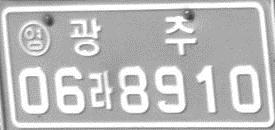0: (228, 64, 263, 114), (17, 67, 50, 115)
1: (192, 64, 225, 114)
6: (53, 66, 85, 114)
8: (117, 65, 149, 114)
9: (153, 65, 186, 114)
광주_D: (69, 15, 197, 58)
라: (88, 69, 113, 110)
영: (17, 21, 51, 56)
